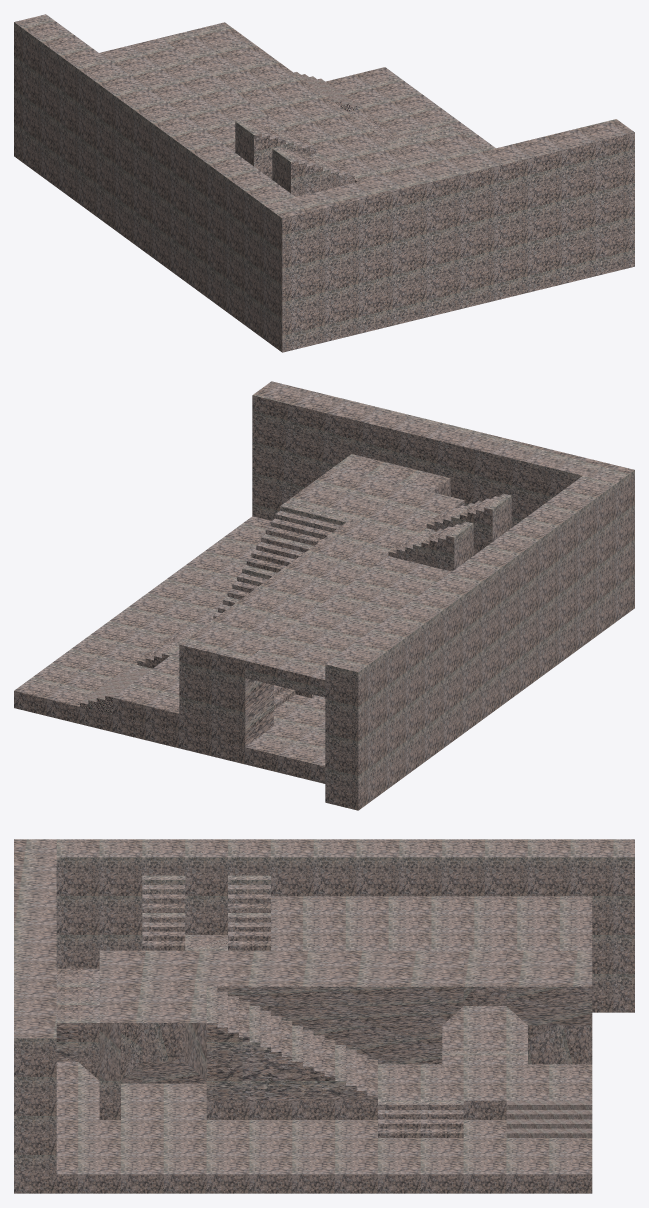
The model's file is LevelTestVisual.fbx.
The picture shows the model from 3 angles, top to bottom: view 1: azimuth 30°, elevation 25°; view 2: azimuth 150°, elevation 25°; view 3: azimuth 270°, elevation 25°; orthographic projection. The views are drawn at different scales.
Parts seen in each view (by area): view 1: Cube.014, Cube.001, Cube.011, Cube.002, Cube.005, Cube.006, Cube.012, Cube.017, Cube.004; view 2: Cube.014, Cube.002, Cube.001, Cube.011, Cube.004, Cube.010, Cube.012, Cube.006, Cube.005, Cube.013, Cube.017, Cube.003; view 3: Cube.014, Cube.002, Cube.001, Cube.011, Cube.004, Cube.010, Cube.012, Cube.013, Cube.005, Cube.017, Cube.003, Cube.006 (+1 smaller).
Part boxes in pixels (x1,y1,x2,y2): Cube.014: [14, 14, 634, 352]; Cube.001: [161, 22, 421, 182]; Cube.011: [99, 38, 290, 152]; Cube.002: [325, 67, 495, 150]; Cube.005: [272, 146, 354, 194]; Cube.006: [235, 119, 317, 167]; Cube.012: [392, 128, 485, 166]; Cube.017: [294, 72, 357, 111]; Cube.004: [382, 125, 454, 143]; Cube.014: [252, 381, 634, 810]; Cube.002: [14, 516, 325, 783]; Cube.001: [179, 484, 464, 746]; Cube.011: [245, 556, 451, 697]; Cube.004: [213, 503, 350, 619]; Cube.010: [113, 649, 179, 730]; Cube.012: [285, 468, 397, 518]; Cube.006: [388, 521, 473, 571]; Cube.005: [426, 493, 511, 543]; Cube.013: [333, 454, 450, 496]; Cube.017: [80, 668, 150, 714]; Cube.003: [137, 626, 203, 668]; Cube.014: [14, 839, 634, 1193]; Cube.002: [56, 1006, 592, 1193]; Cube.001: [99, 950, 592, 1083]; Cube.011: [271, 896, 592, 950]; Cube.004: [206, 986, 377, 1100]; Cube.010: [206, 1055, 592, 1119]; Cube.012: [99, 986, 206, 1119]; Cube.013: [56, 968, 99, 1080]; Cube.005: [142, 875, 185, 950]; Cube.017: [506, 1100, 592, 1137]; Cube.003: [378, 1100, 463, 1137]; Cube.006: [228, 875, 270, 950].
Size of the model in its own units: 44 by 16 by 58.
